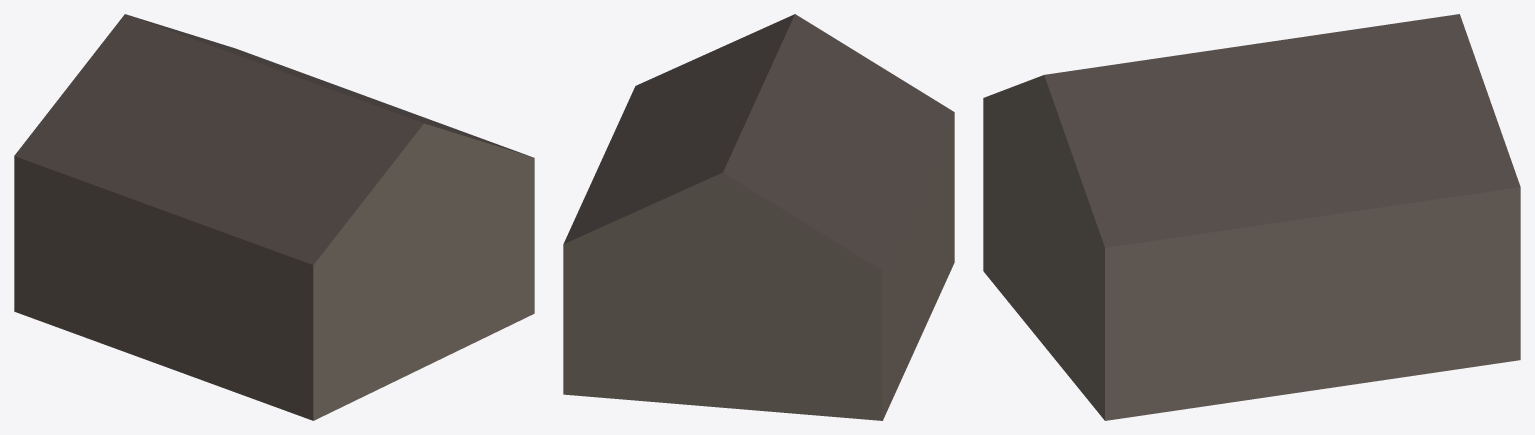
3 renders of one model, left to right at view 1: azimuth 30°, elevation 25°; view 2: azimuth 150°, elevation 25°; view 3: azimuth 270°, elevation 25°, orthographic. The views are drawn at different scales.
Visible parts, largest first — view 1: HP-w1376988805; view 2: HP-w1376988805; view 3: HP-w1376988805.
Boxes of the visible parts, <box> form: HP-w1376988805: <box>14,14,534,420</box>; HP-w1376988805: <box>563,14,954,420</box>; HP-w1376988805: <box>983,14,1520,420</box>.
Bounding box in the file's own units: 15.67 × 9.4 × 16.89.
